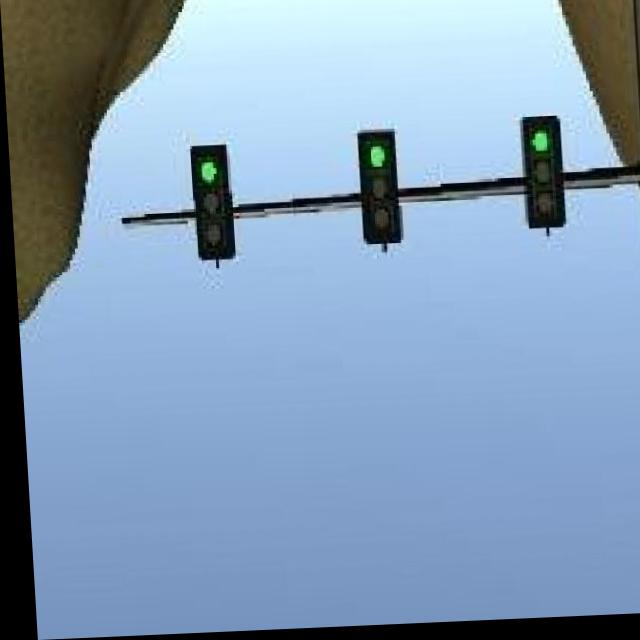green light: (515, 118, 567, 236), (187, 150, 236, 266), (353, 135, 398, 253)
